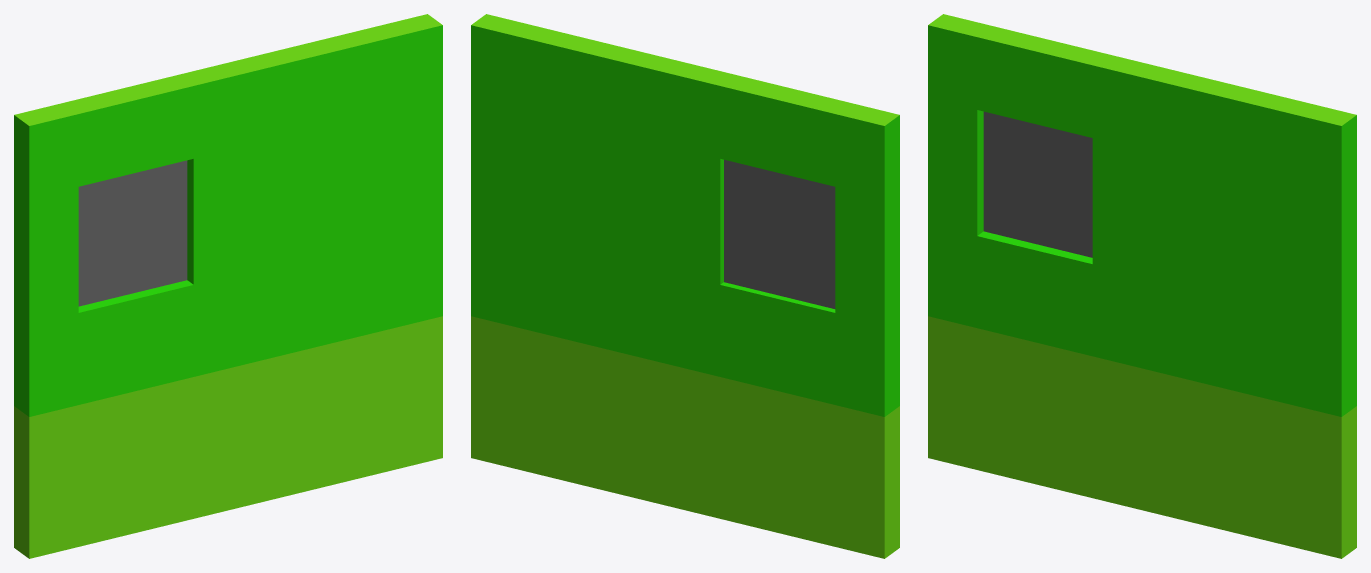
The model's file is Window-Wall.fbx.
3 views of the same model, side by side, from view 1: azimuth 30°, elevation 25°; view 2: azimuth 150°, elevation 25°; view 3: azimuth 330°, elevation 25° (orthographic).
Visible parts, largest first — view 1: Window-Wall; view 2: Window-Wall; view 3: Window-Wall.
Part boxes in pixels (box(x1,y1,x2,y2)): Window-Wall: box(14, 14, 442, 558); Window-Wall: box(471, 14, 899, 558); Window-Wall: box(928, 14, 1356, 558).
Bounding box in the file's own units: 200 × 200 × 12.79.
